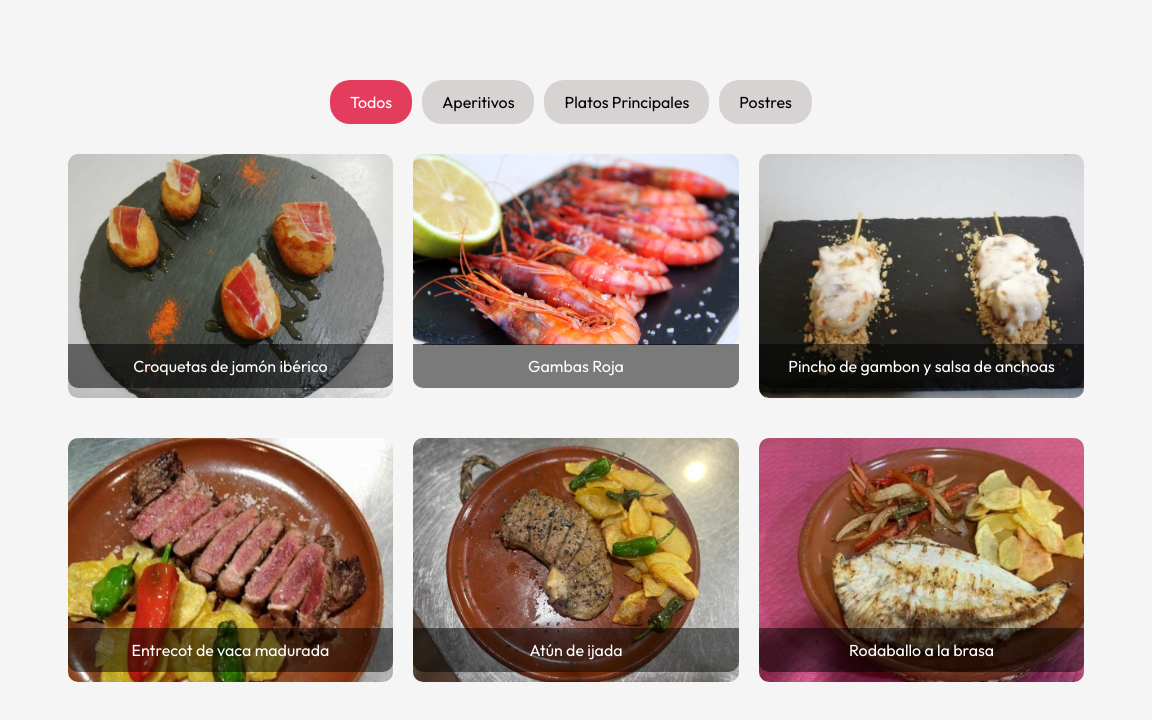
Test: Gastronomy › filters to only Aperitivos dishes
The width and height of the screenshot is (1152, 720).
Click the button "Aperitivos": (478, 102) [422,80,534,124]
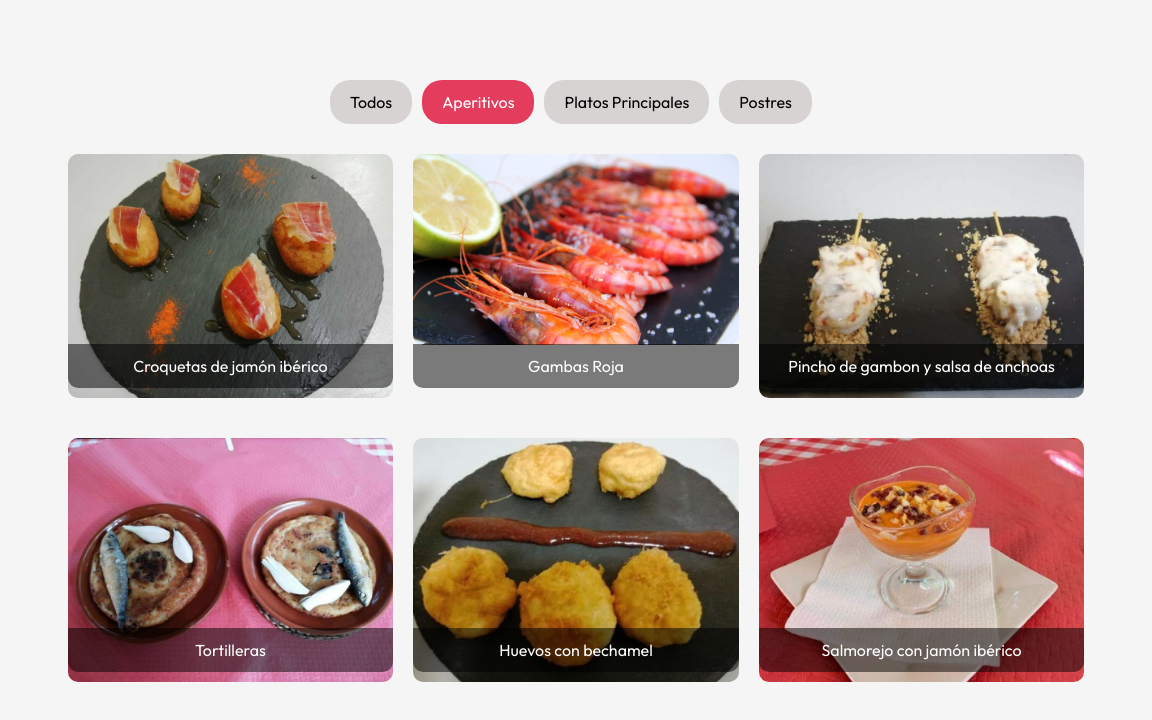
Check: the picture with alt text "Croquetas de jamón ibérico" is shown, box [68,154,393,398]
Check: the text with alt text "Entrecot de vaca madurada" is gone
